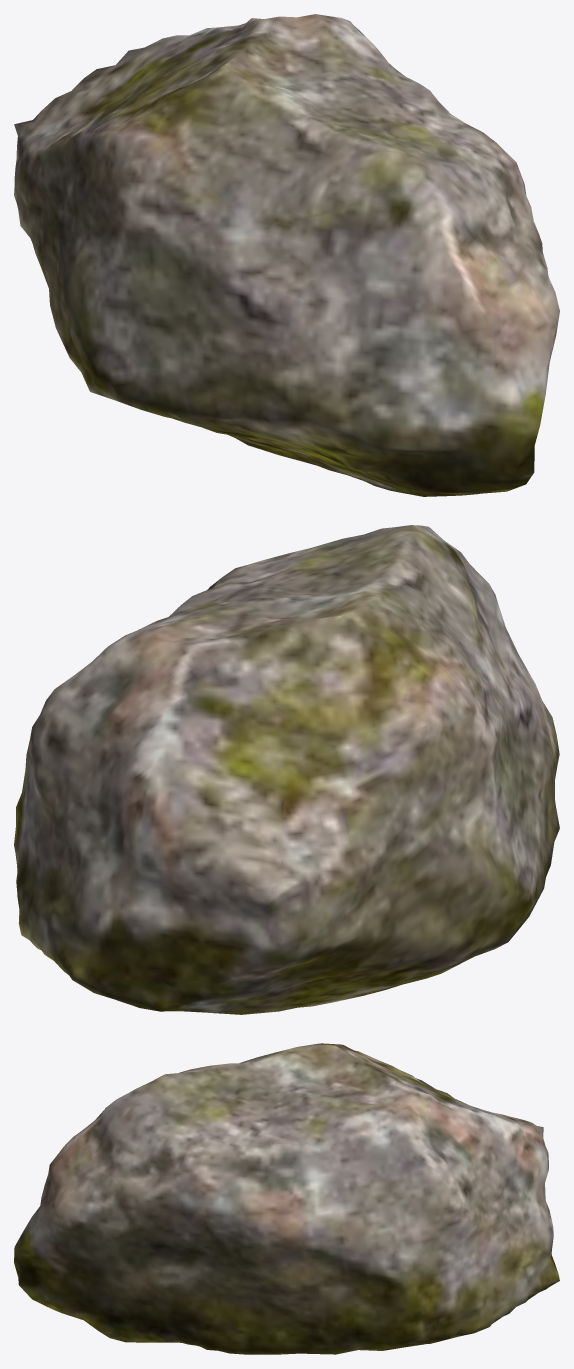
The model's file is SM_pal_b00_stone_nakano_test_03_666012.glb.
3 views of the same model, one above another, from view 1: azimuth 30°, elevation 25°; view 2: azimuth 150°, elevation 25°; view 3: azimuth 270°, elevation 25° (orthographic). The views are drawn at different scales.
Bounding box in the file's own units: 4.17 × 3.52 × 6.44.
Materials: 1 (1 with a texture image).
